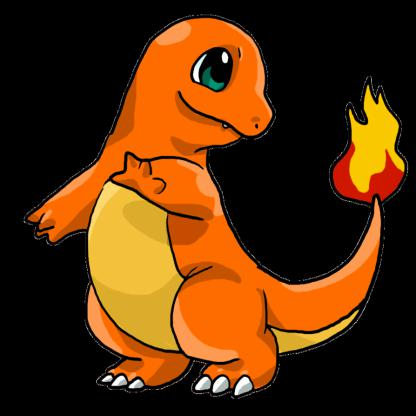Charmander: (23, 1, 416, 416)
